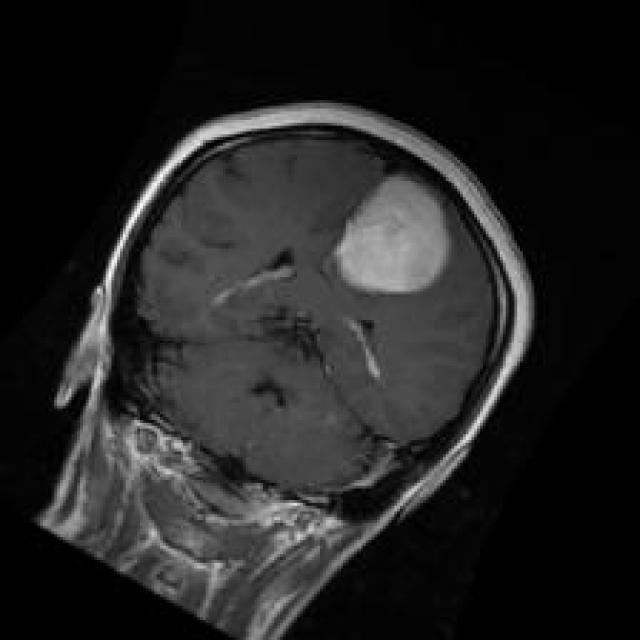meningioma_tumor: (326, 162, 466, 307)
